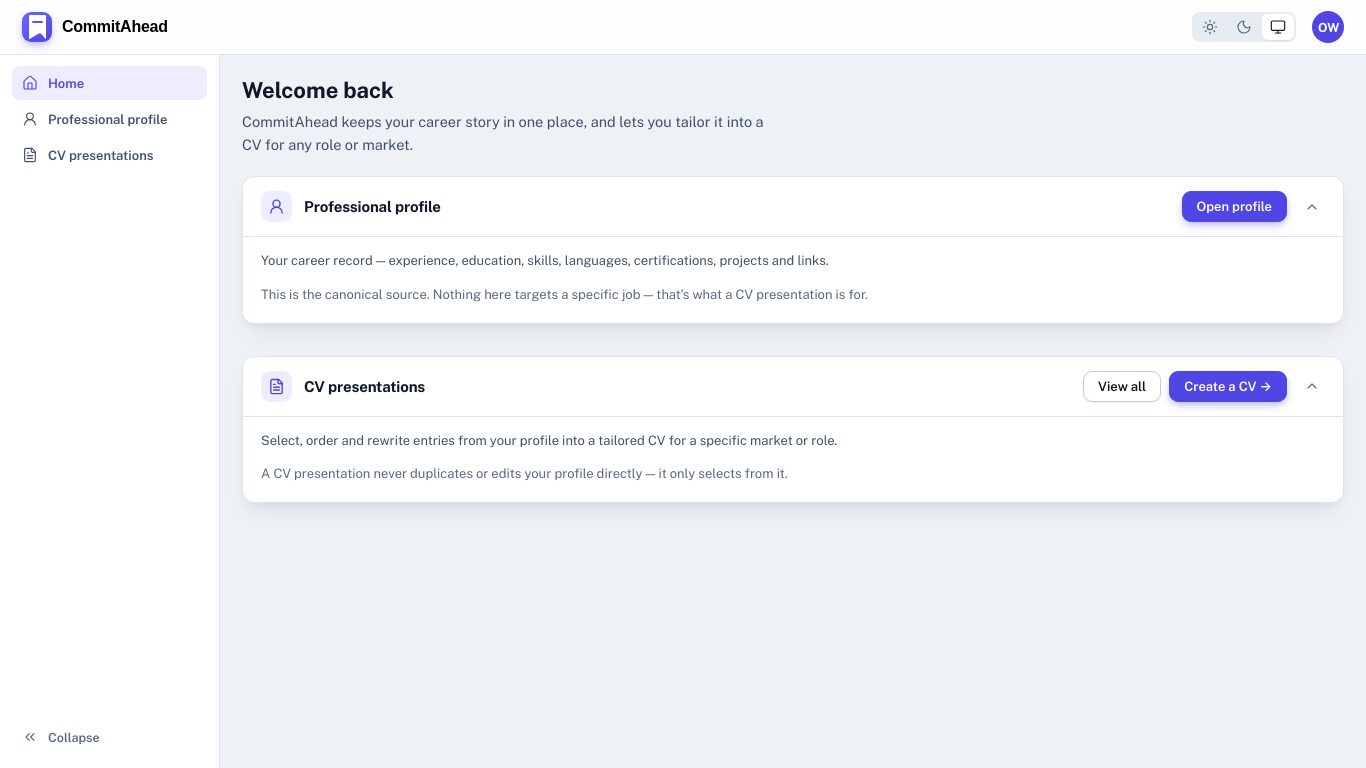
Test: App › does not switch to anonymous when the CSRF fetch fails — shows a retryable error instead
The width and height of the screenshot is (1366, 768).
Click the button with aria-label "Account menu".
click(1328, 27)  # box [1312,11,1344,43]
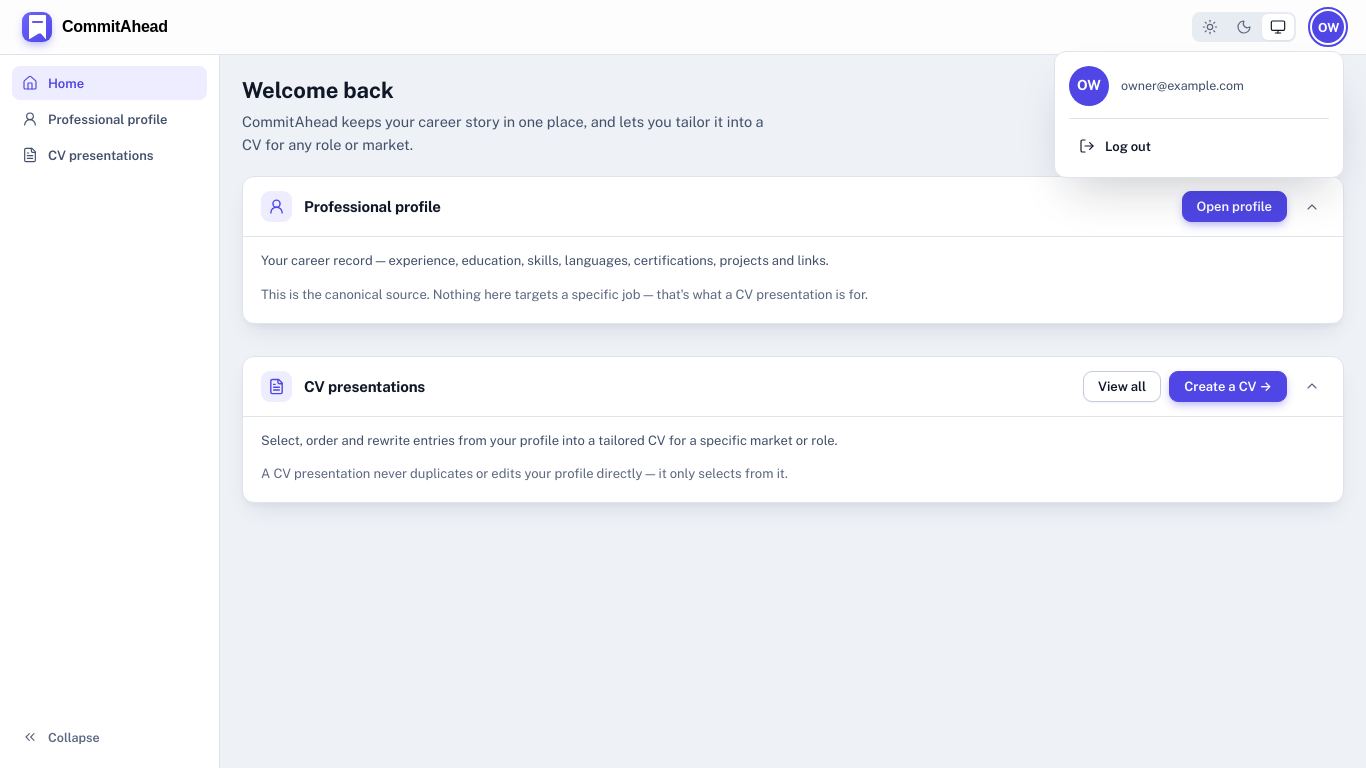
Result: the text "owner@example.com" is shown at [1121,76,1244,96]
Click the button "Log out".
click(1128, 146)  # box [1069,129,1329,163]
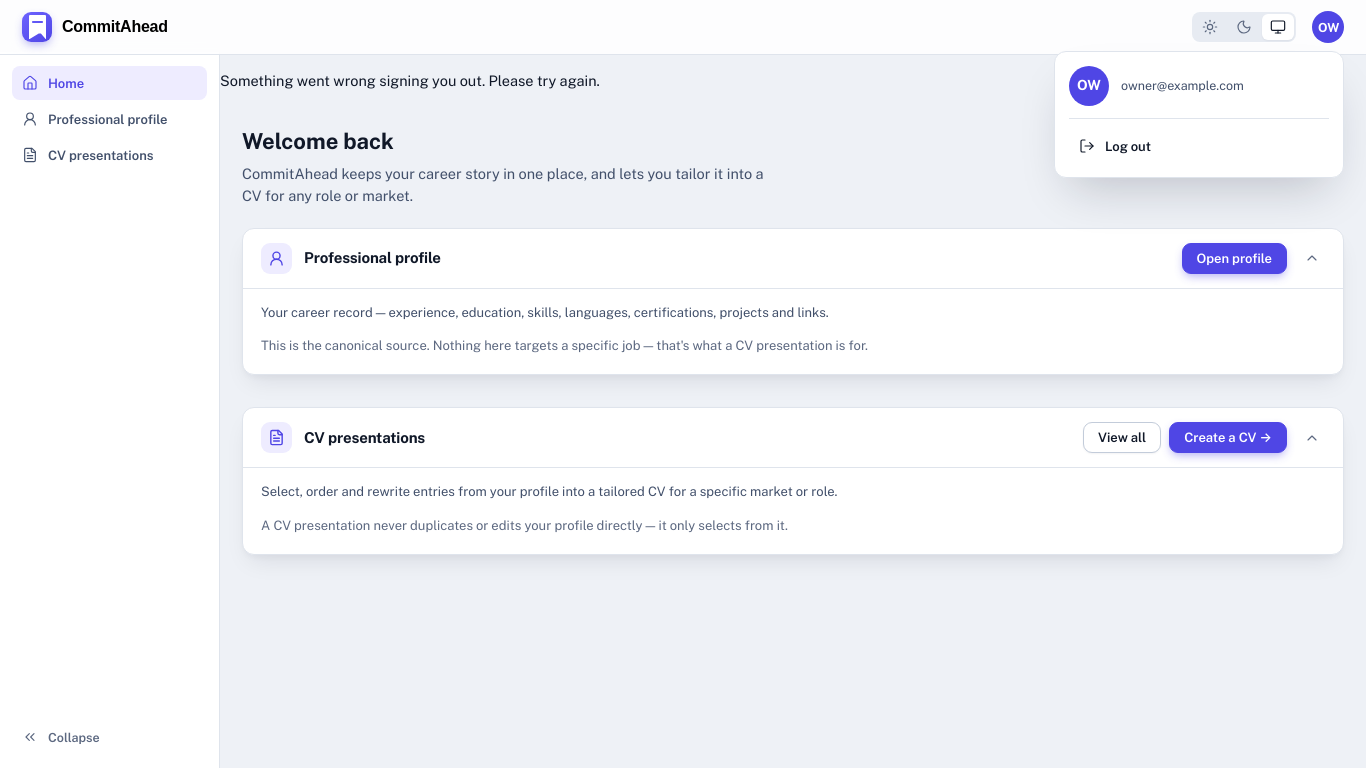
Result: the text "owner@example.com" is shown at [1121,76,1244,96]
Result: the message shows "try again" at [220,72,600,88]
